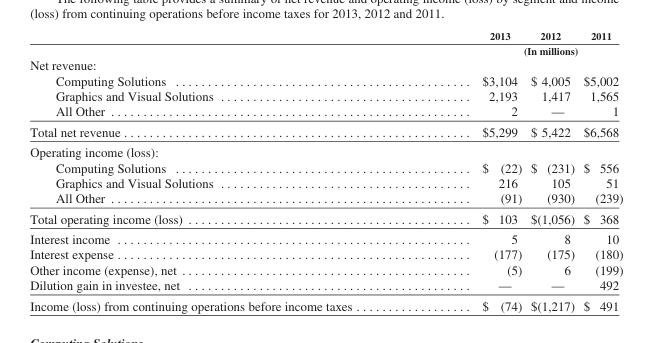table: (29, 28, 622, 312)
table column: (29, 28, 416, 312), (416, 28, 525, 312), (525, 28, 578, 312), (578, 28, 622, 312)
table column header: (29, 28, 622, 57)
table projected row header: (29, 141, 622, 159), (29, 57, 622, 72)
table row: (29, 121, 622, 141), (29, 208, 622, 228), (29, 103, 622, 121), (29, 141, 622, 159), (29, 190, 622, 208), (29, 228, 622, 246), (29, 294, 622, 312), (29, 277, 622, 294), (29, 87, 622, 103), (29, 174, 622, 190), (29, 261, 622, 277), (29, 42, 622, 57), (29, 57, 622, 72), (29, 72, 622, 87), (29, 159, 622, 174), (29, 246, 622, 261), (29, 28, 622, 42)
table spanning cell: (416, 42, 622, 57)
